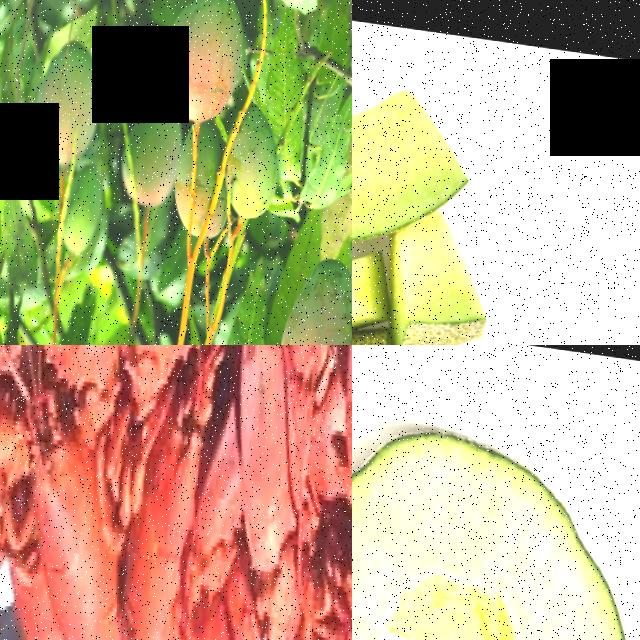mango: (152, 0, 246, 122), (35, 34, 104, 162), (278, 244, 352, 345), (119, 95, 183, 208), (173, 121, 228, 237), (232, 100, 283, 219)
melon: (352, 398, 640, 640), (385, 208, 494, 345)
